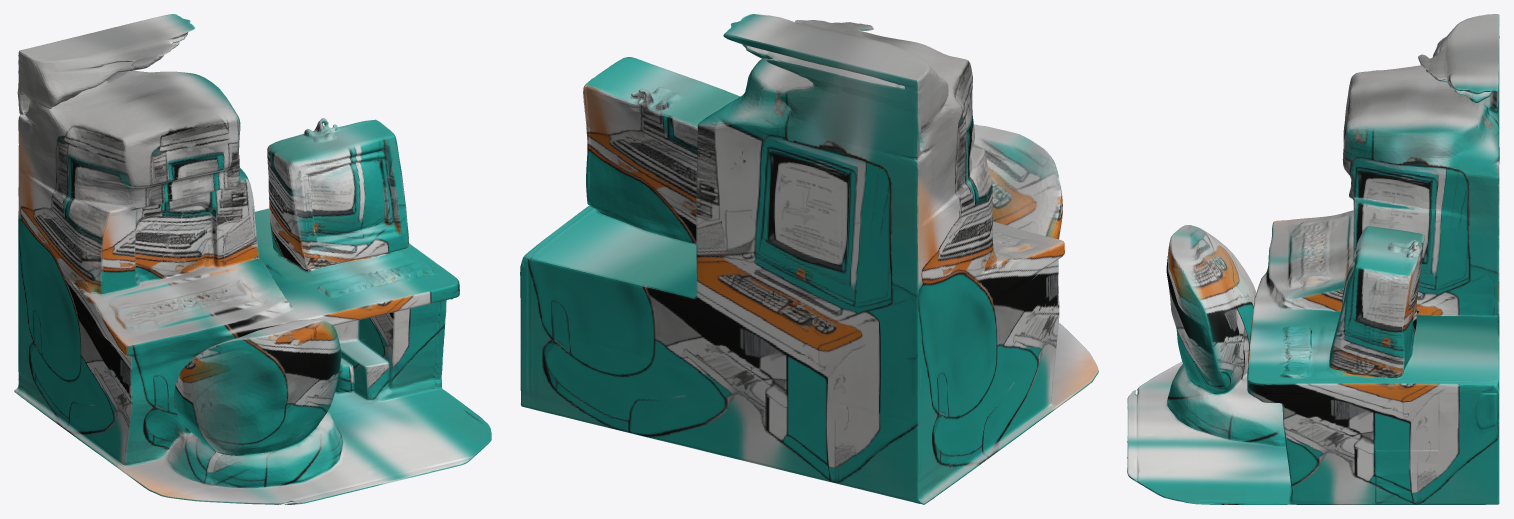
Rendered from desk.glb.
3 renders of one model, left to right at view 1: azimuth 30°, elevation 25°; view 2: azimuth 150°, elevation 25°; view 3: azimuth 270°, elevation 25°, orthographic. The views are drawn at different scales.
Visible parts, largest first — view 1: desk; view 2: desk; view 3: desk.
Boxes of the visible parts, x1,y1,x2,y2 form: desk: (14,14,491,504); desk: (520,14,1098,504); desk: (1127,14,1499,504).
Size of the model in its own units: 1.62 by 1.61 by 1.61.
1 material, 1 textured.
